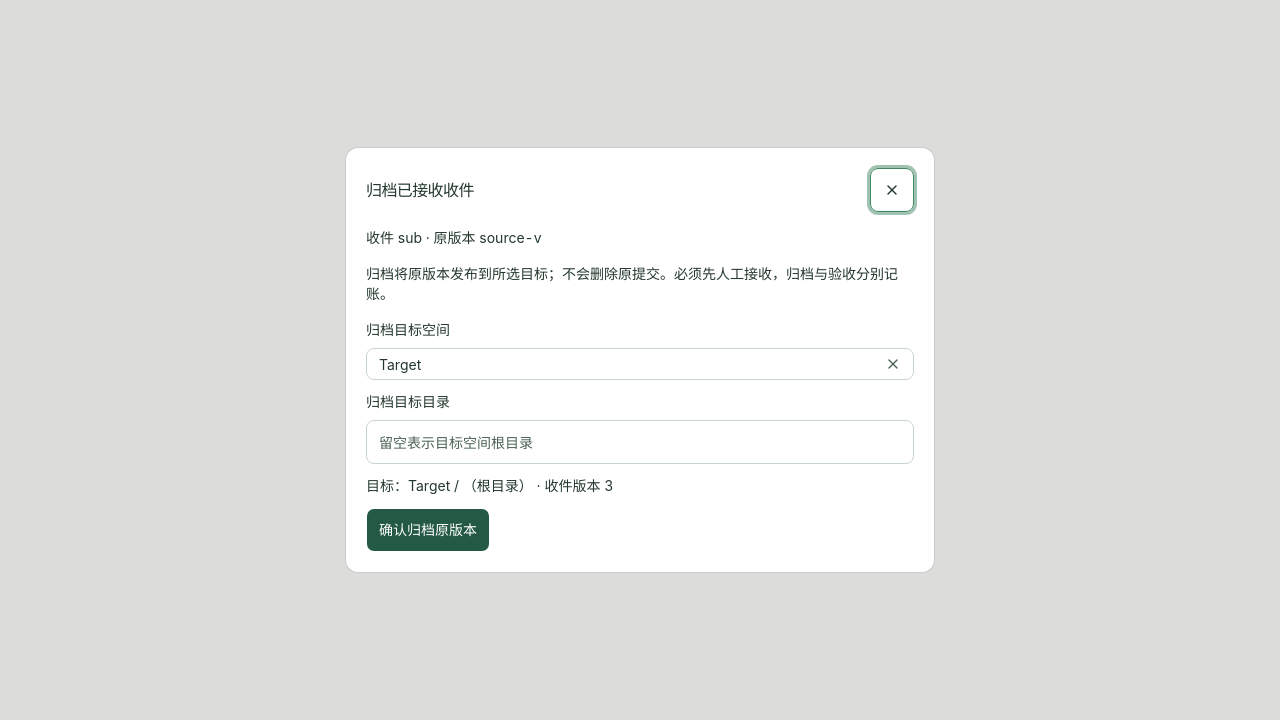
Test: 202 with file_ref is not completion if the original operation is still pending
Click the button "确认归档原版本".
click(428, 530)  # box [366,508,490,552]
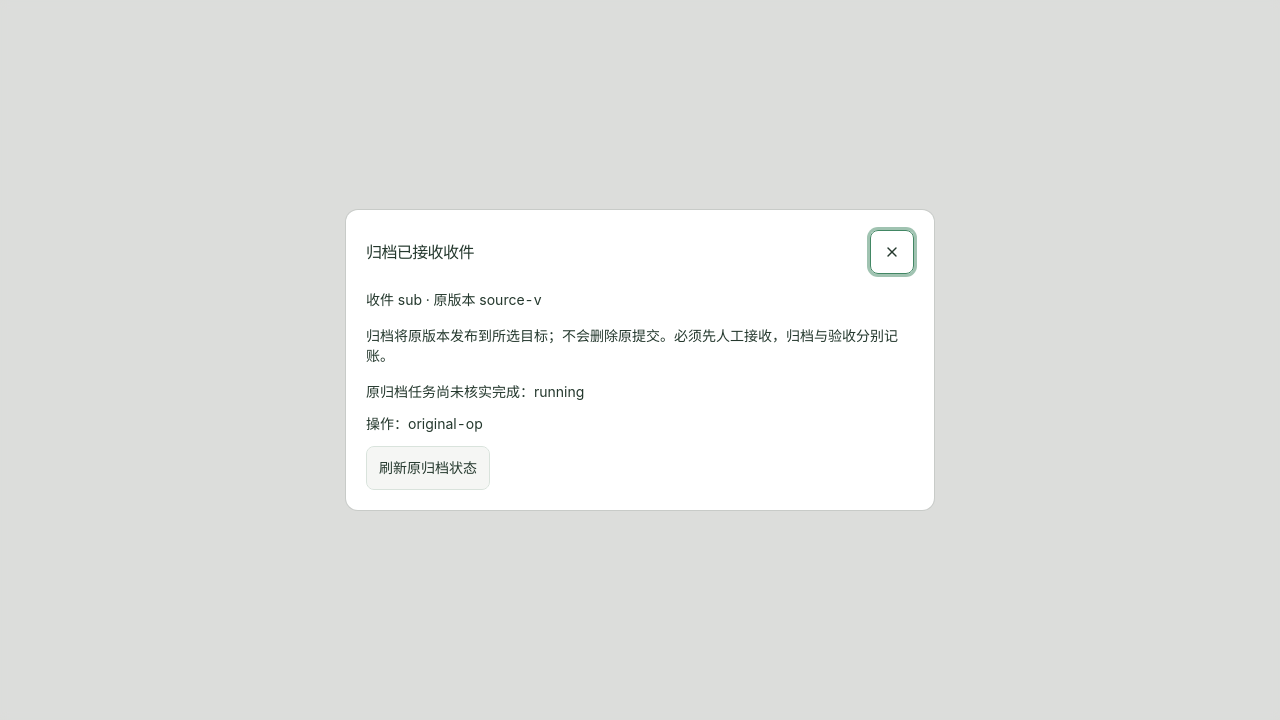
Now the text "原归档任务尚未核实完成：running" is shown, box [366,383,584,400]
